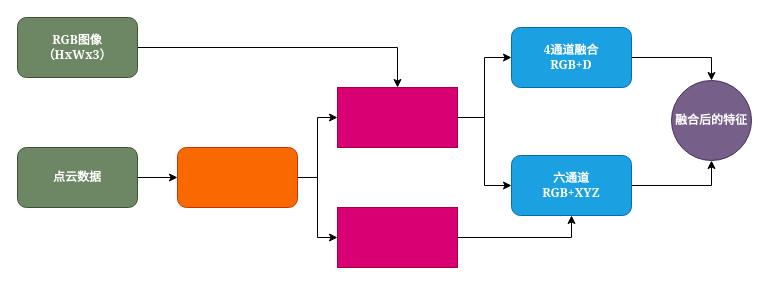
Some shapes in this 769 by 285 pixel diagram are drawn without their labels. Each missing label, with the centre of its shape:
"坐标图XYZ （HxWx3）" goes at pixel 397 237.
"点云投影 球面投影 采样" goes at pixel 237 177.
"距离图D （HxWx1）" goes at pixel 397 117.
